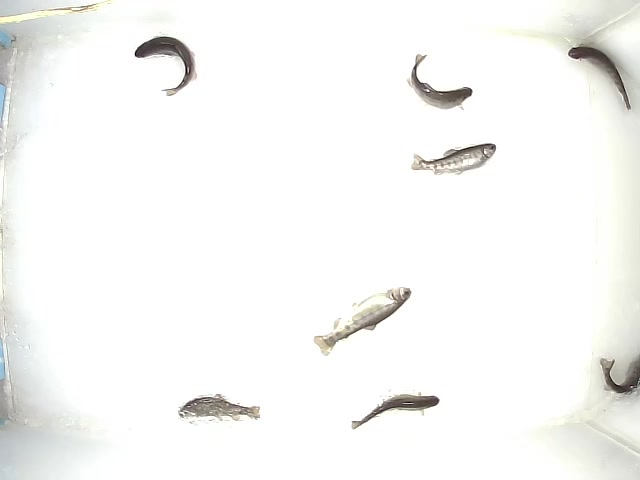fish: (313, 282, 416, 358), (563, 45, 635, 110), (132, 33, 199, 96), (404, 51, 473, 112), (350, 387, 440, 432), (408, 143, 499, 179), (178, 390, 265, 426)
